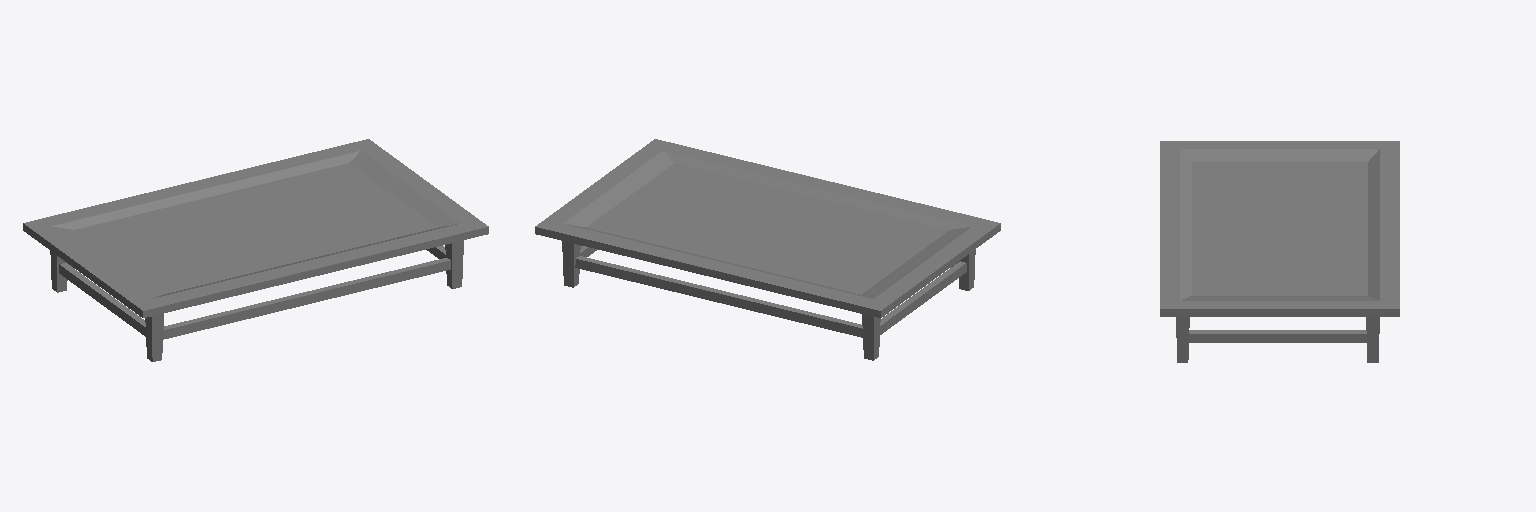
File: Mesa.obj
3 renders of one model, left to right at view 1: azimuth 30°, elevation 25°; view 2: azimuth 150°, elevation 25°; view 3: azimuth 270°, elevation 25°, orthographic.
Parts seen in each view (by area): view 1: coffee_table_001; view 2: coffee_table_001; view 3: coffee_table_001.
Part boxes in pixels (x1,y1,x2,y2): coffee_table_001: (23,139,488,361); coffee_table_001: (535,139,1000,360); coffee_table_001: (1160,141,1399,362).
Bounding box in the file's own units: 8.97 × 1.54 × 5.4.